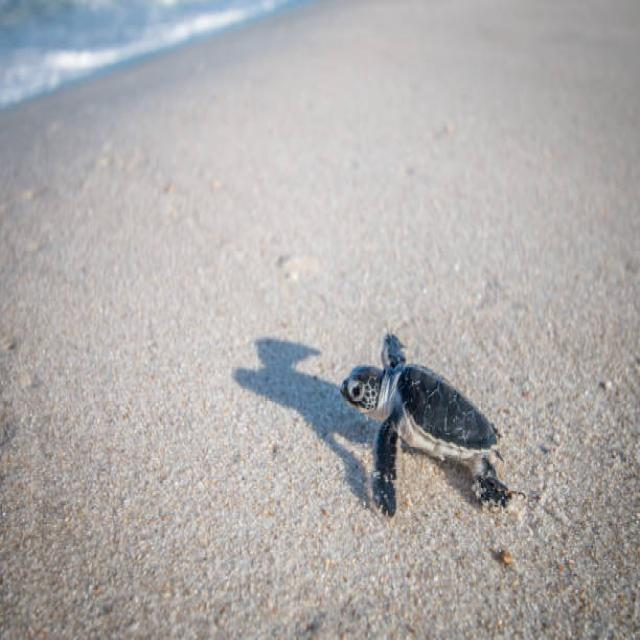sea turtle: (464, 445, 534, 519), (372, 409, 412, 523), (379, 312, 428, 378)
